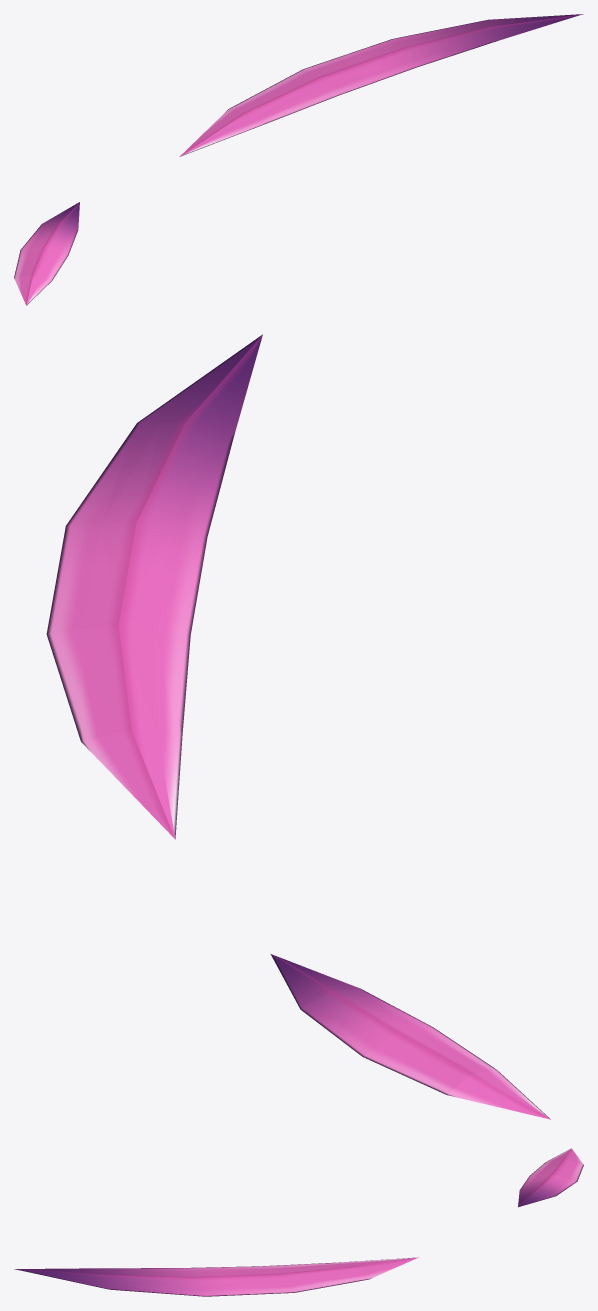
File: senbon_arco_b.fbx
3 views of the same model, one above another, from view 1: azimuth 90°, elevation 25°; view 2: azimuth 150°, elevation 25°; view 3: azimuth 270°, elevation 25° (orthographic). The views are drawn at different scales.
Parts seen in each view (by area): view 1: senbon_arco_b; view 2: senbon_arco_b; view 3: senbon_arco_b.
Part boxes in pixels (x1,y1,x2,y2): senbon_arco_b: [14, 14, 583, 305]; senbon_arco_b: [46, 334, 550, 1119]; senbon_arco_b: [14, 1148, 583, 1296].
Size of the model in its own units: 2.44 by 0.455 by 2.75.
1 material, 1 textured.
